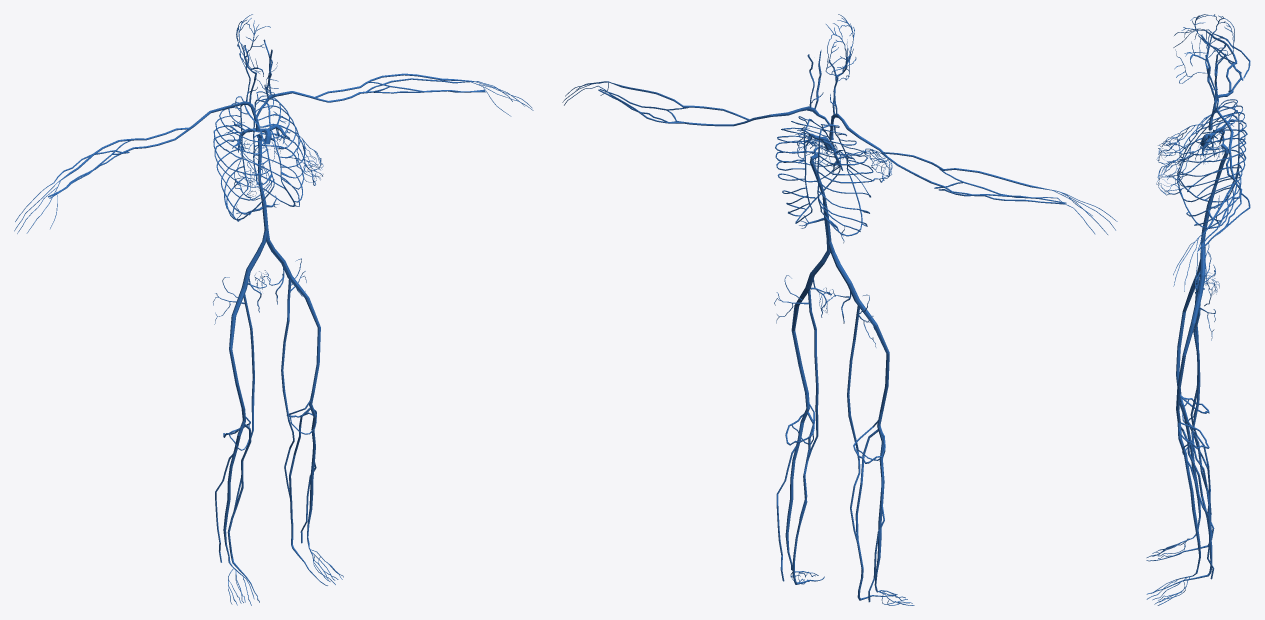
The model's file is 女性_循环系统_静脉.fbx.
3 views of the same model, side by side, from view 1: azimuth 30°, elevation 25°; view 2: azimuth 150°, elevation 25°; view 3: azimuth 270°, elevation 25° (orthographic). The views are drawn at different scales.
Visible parts, largest first — view 1: 女性_循环系统_静脉; view 2: 女性_循环系统_静脉; view 3: 女性_循环系统_静脉.
Boxes of the visible parts, box(x1,y1,x2,y2) form: 女性_循环系统_静脉: box(14, 14, 533, 605); 女性_循环系统_静脉: box(562, 14, 1117, 605); 女性_循环系统_静脉: box(1146, 14, 1250, 605).
Size of the model in its own units: 172 by 177 by 29.68.
